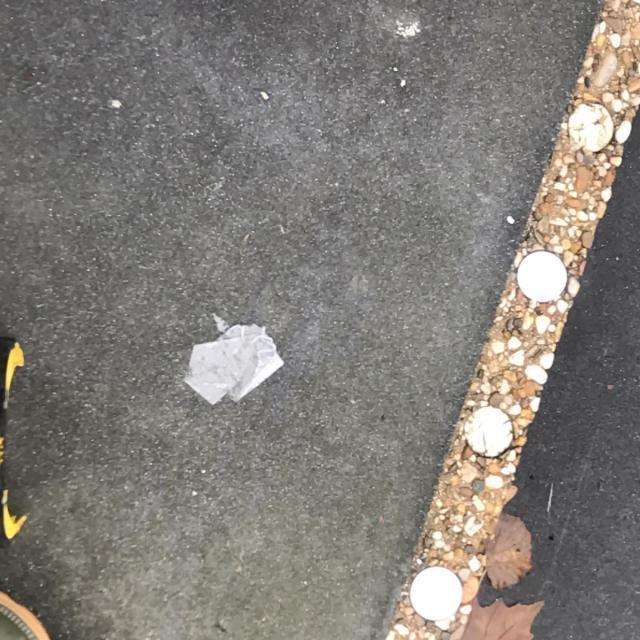Paper: (182, 322, 282, 407)
